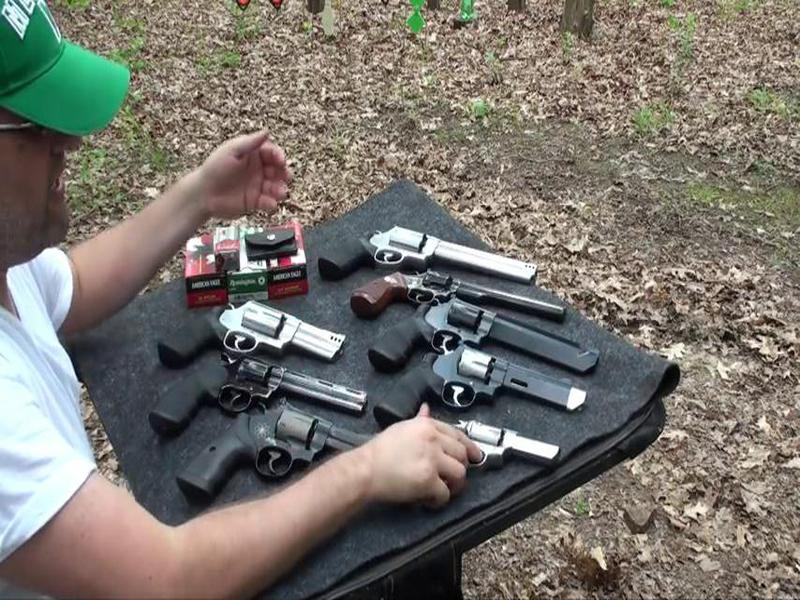Revolver: (370, 292, 602, 388)
